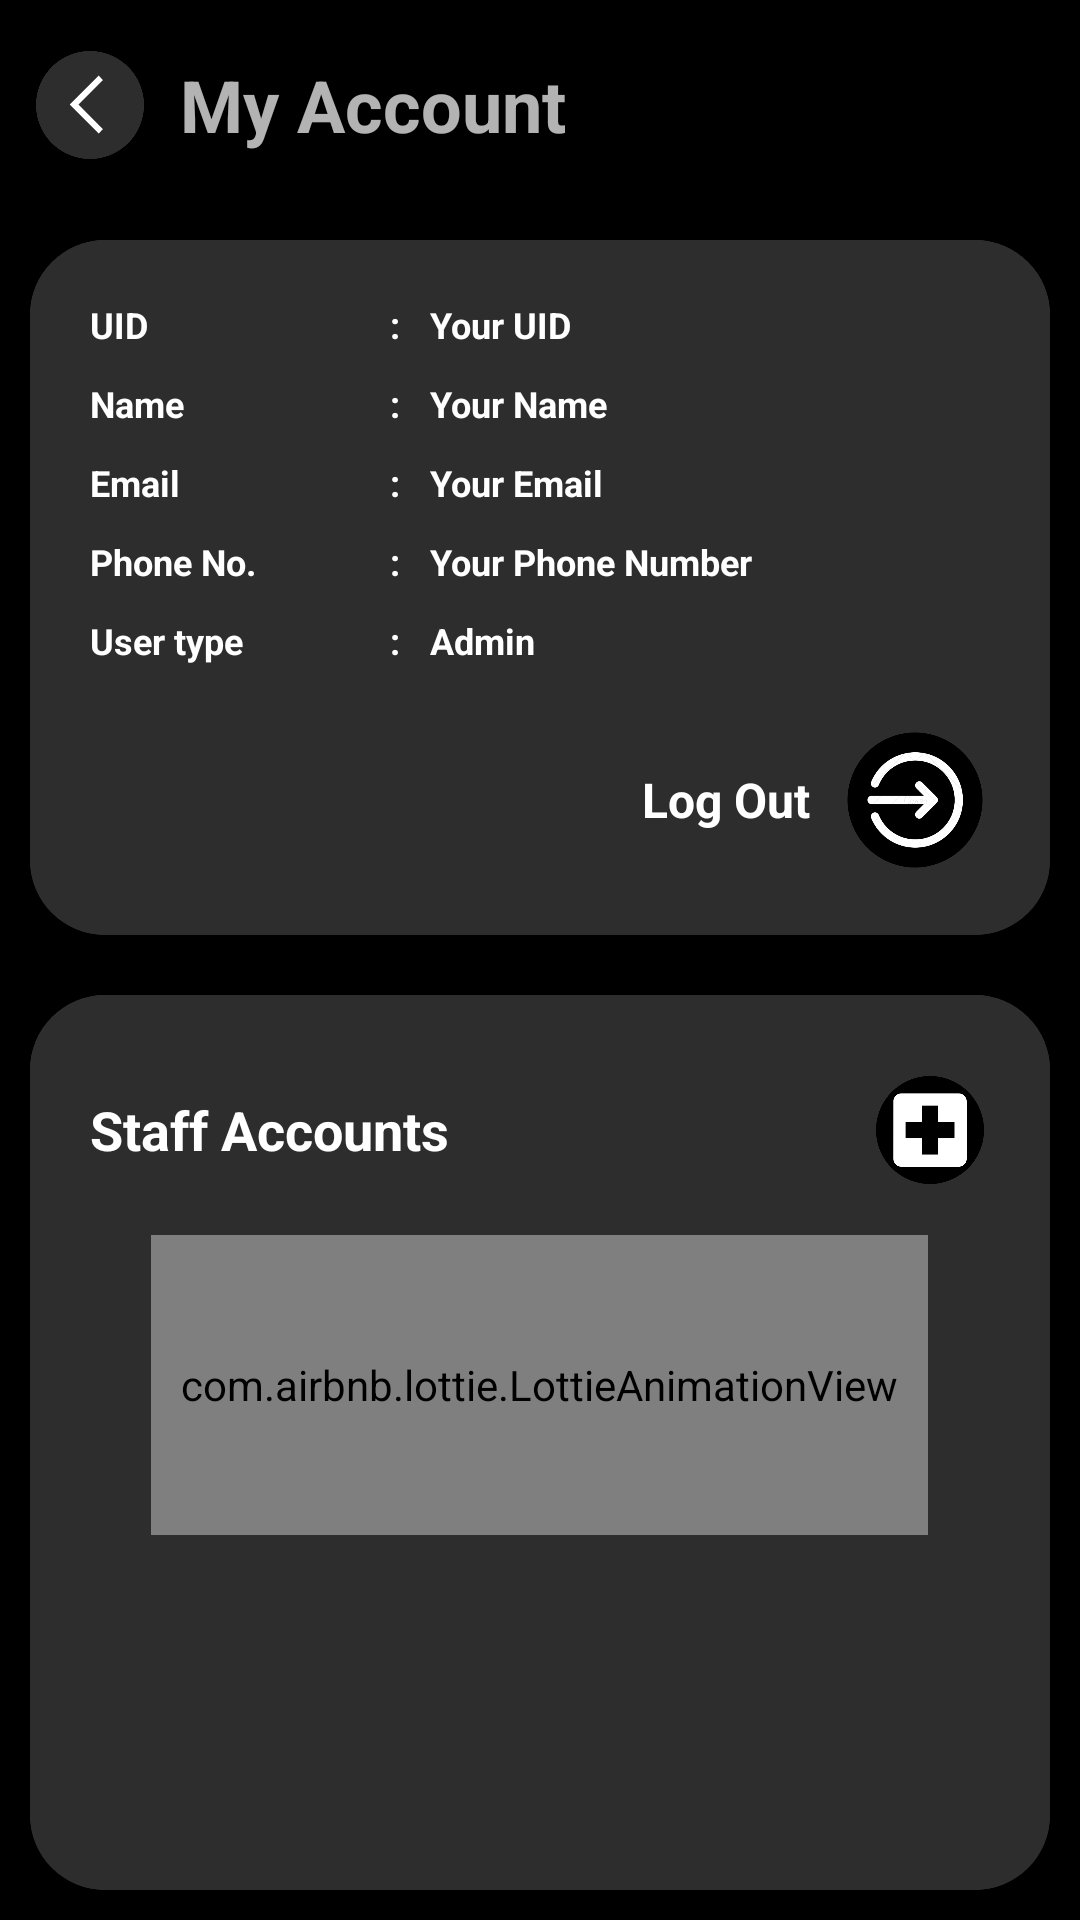

Where icons sit on this 1080 × 1920 app screen, as (x1, y1, x2, y2):
add: (876, 1076, 984, 1184)
back: (36, 51, 144, 159)
login: (848, 733, 982, 867)
